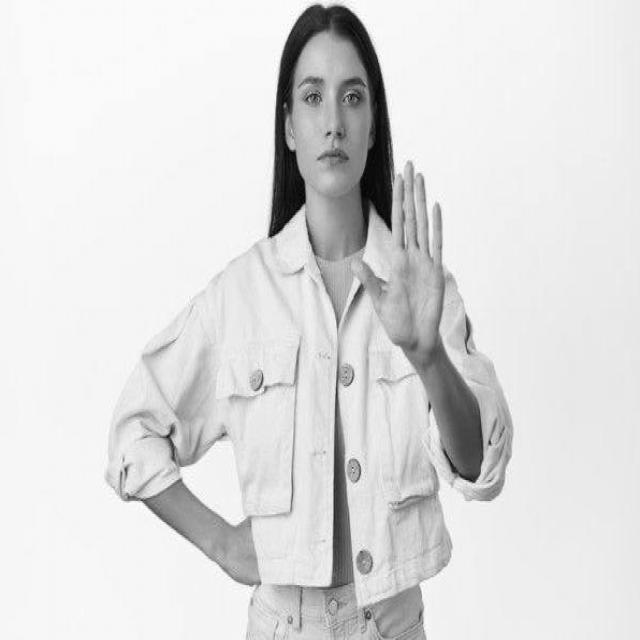stop: (347, 154, 450, 361)
